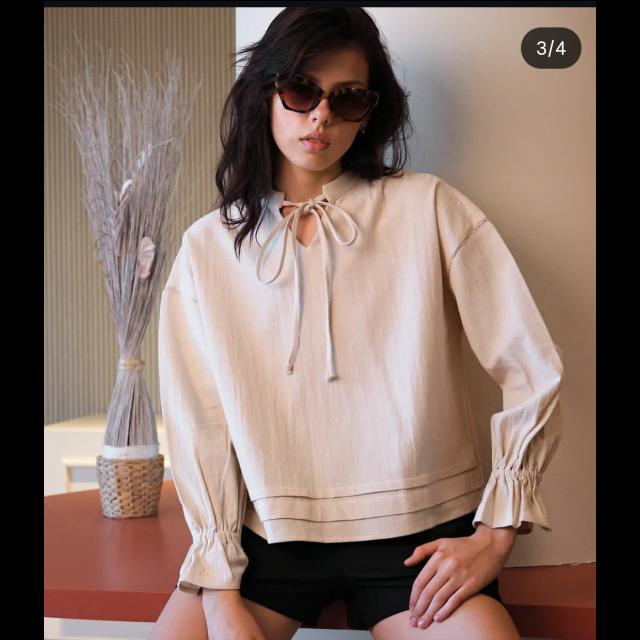bottom: (177, 520, 513, 640)
glasses: (272, 64, 374, 122)
top: (162, 217, 548, 545)
